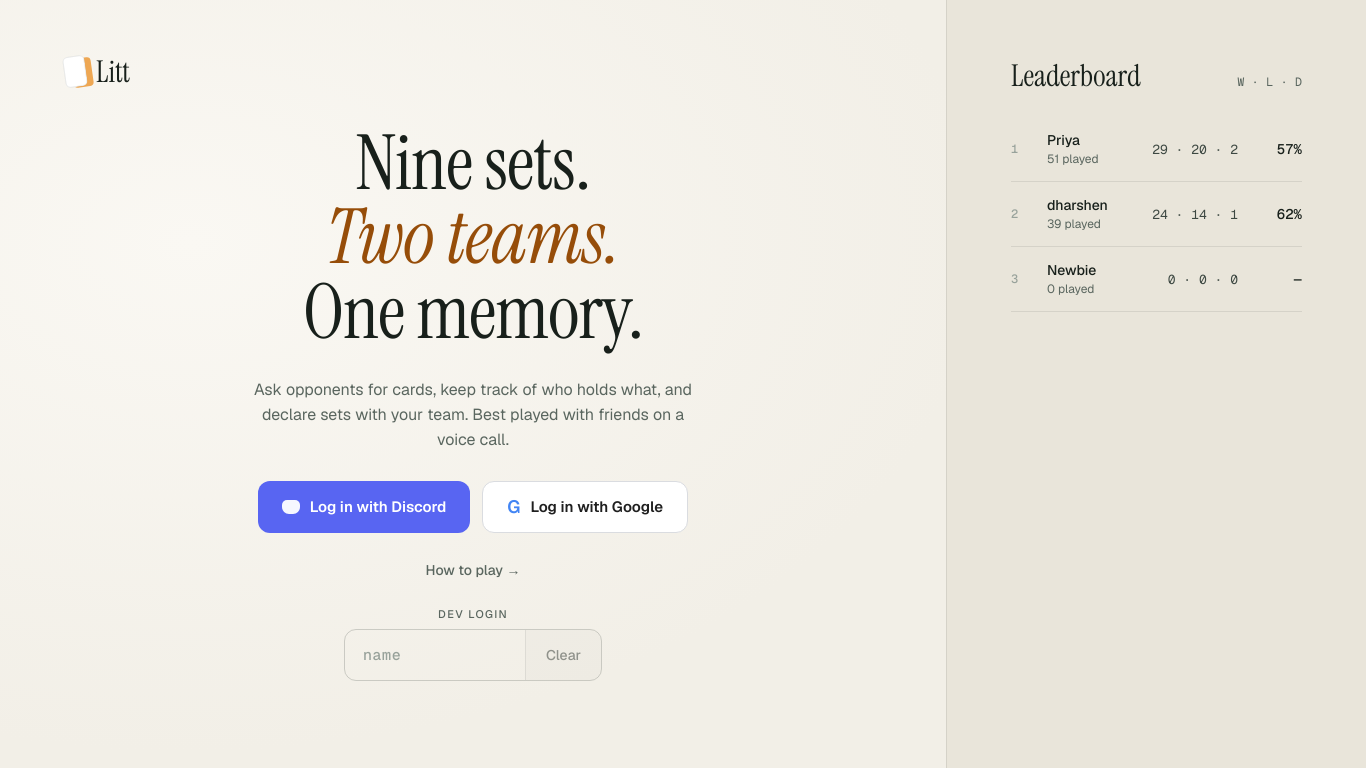
Test: Home: dev login (dev builds only) › shows the dev profile and room controls after pressing Use
Expected: the link "Log in with Discord" is shown, [258,481,470,533]
Type "alice" into the field named "Dev login name". click: (435, 655)
box: [345,630,525,680]
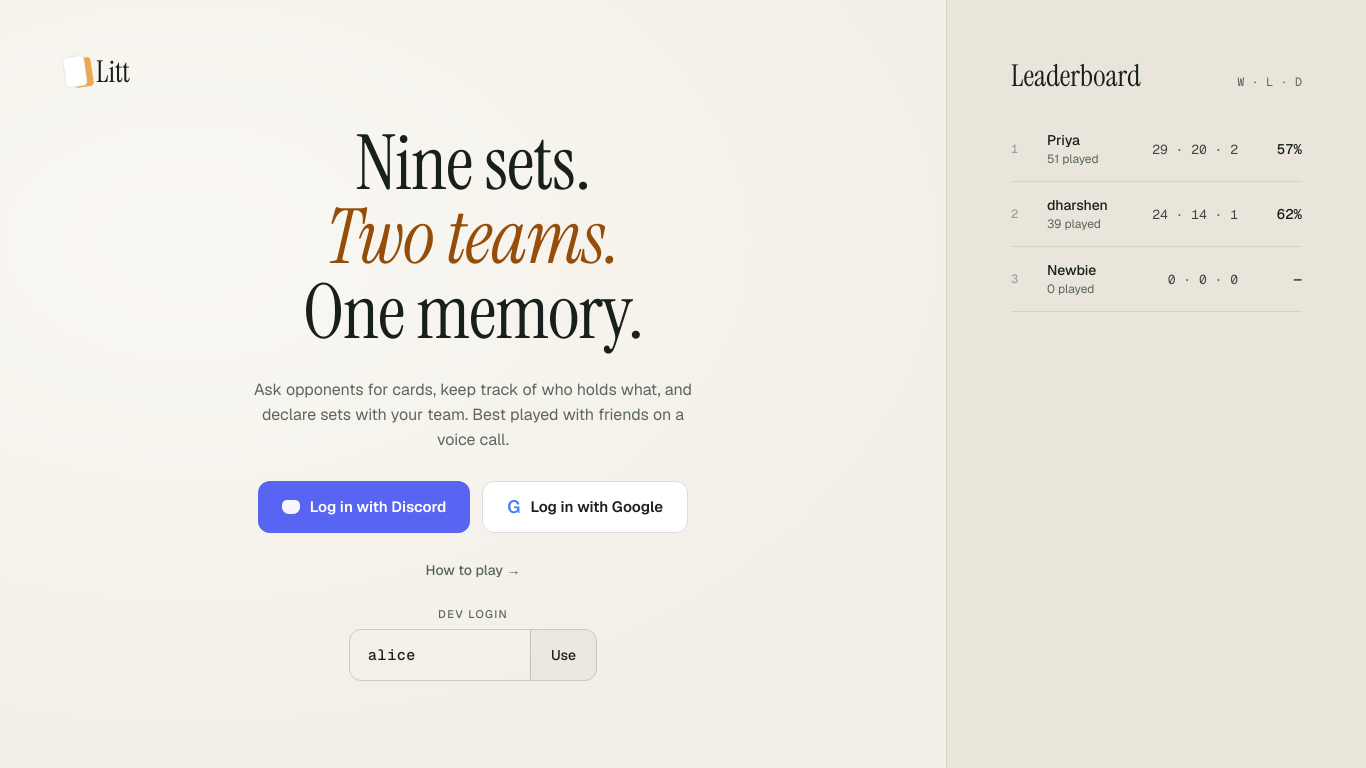
Click the button "Use". click: (563, 655)
box: [530,630,596,680]
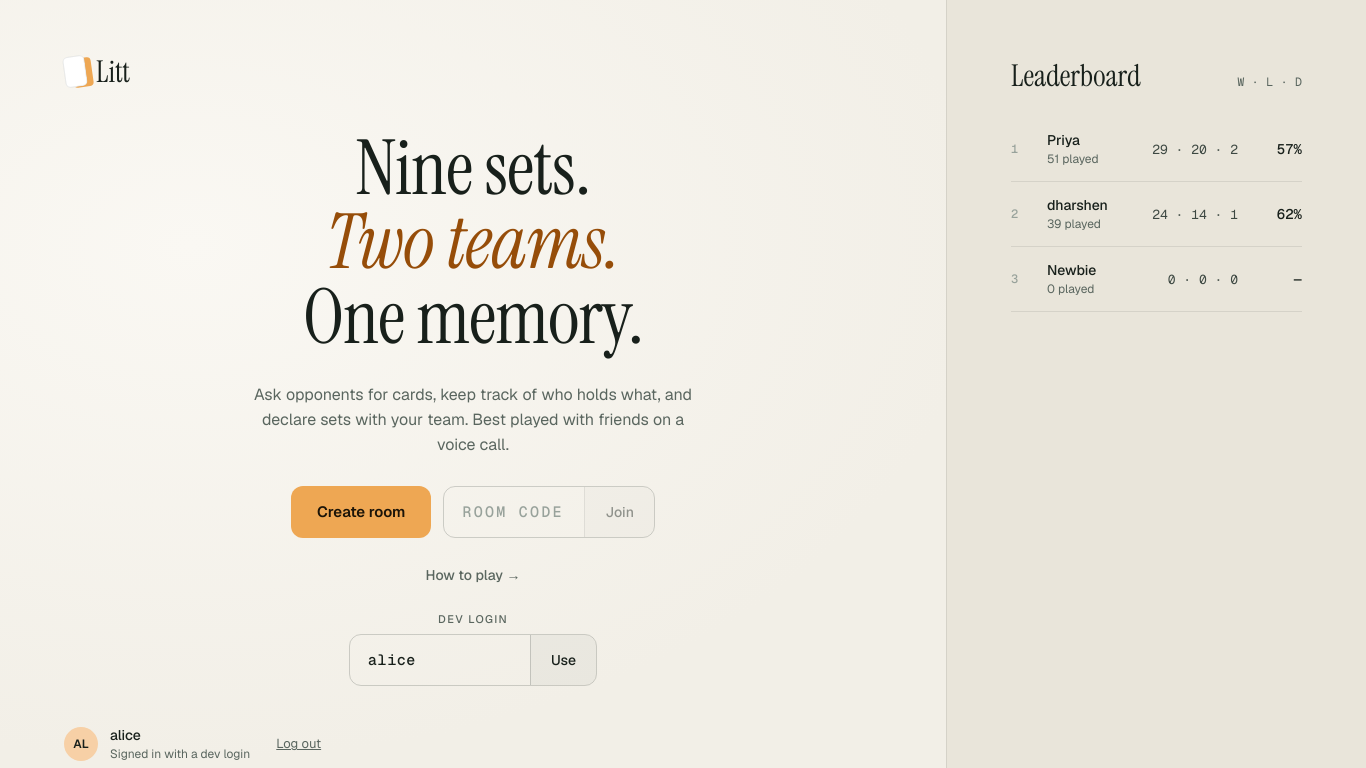
Now the button "Create room" is shown, box [291,486,432,538]
Now the text "Signed in with a dev login" is shown, box [110,746,250,762]
Now the text "alice" is shown, box [110,726,141,744]
